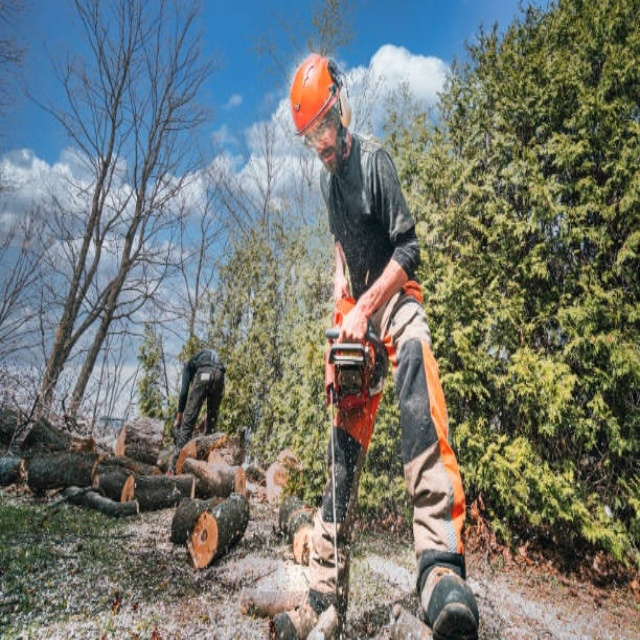Gafas: (304, 89, 341, 149)
Sin_guantes: (336, 296, 373, 344)
Sin_mascara: (316, 146, 343, 174)
